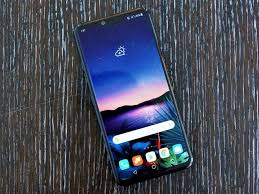lg: (65, 7, 194, 185)
